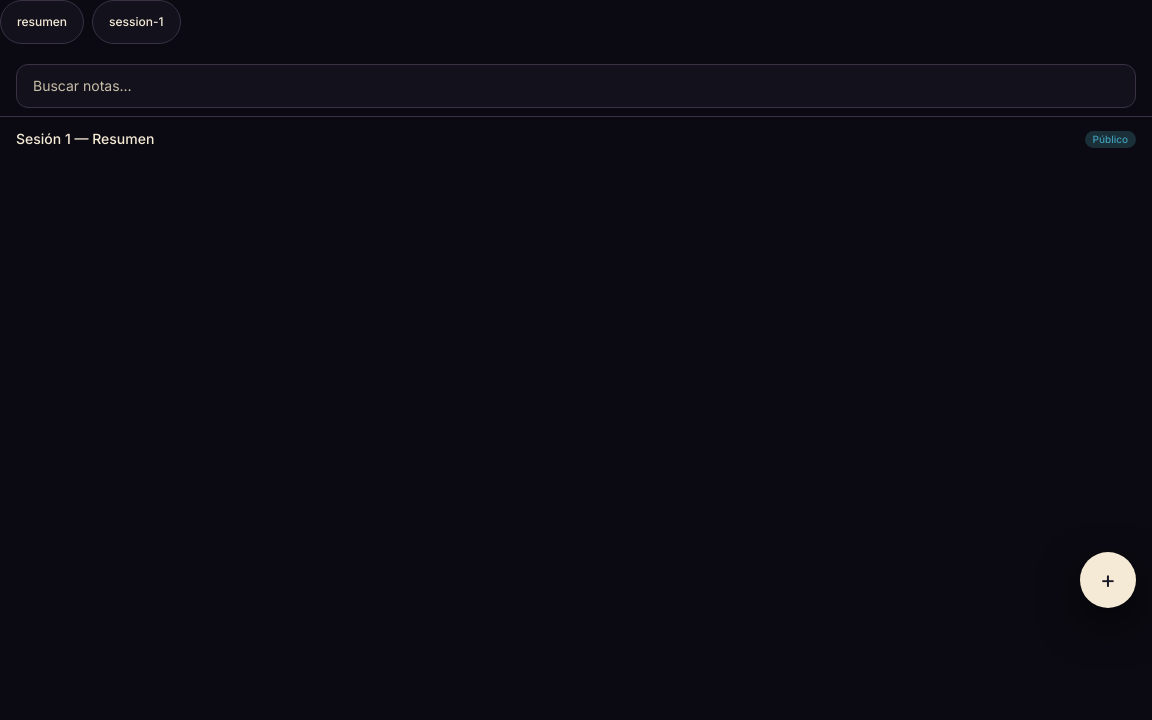
Test case: JournalClientWrapper — DM view (effectiveView="dm") › (a) edit button is present in detail sheet when DM taps a row
This screenshot has width=1152, height=720.
Click the button "Sesión 1 — Resumen Público" at (85, 138), box [0,117,1151,161]
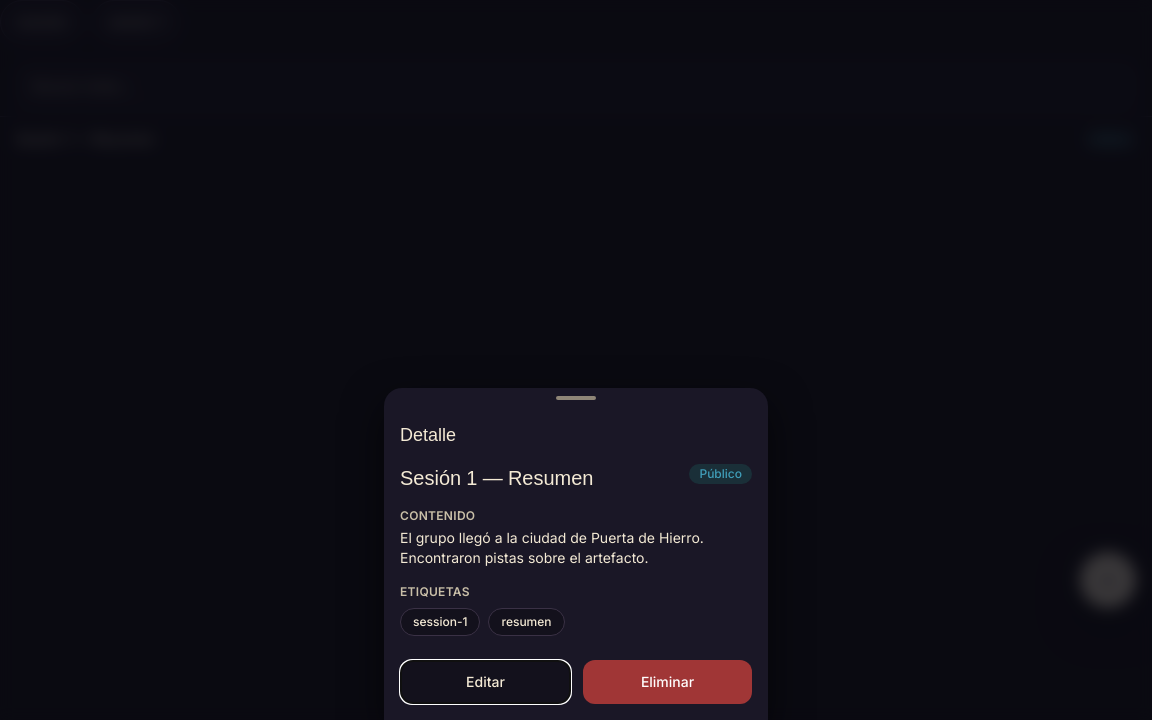
Check: the button "Editar" is shown, box [400,660,571,704]
